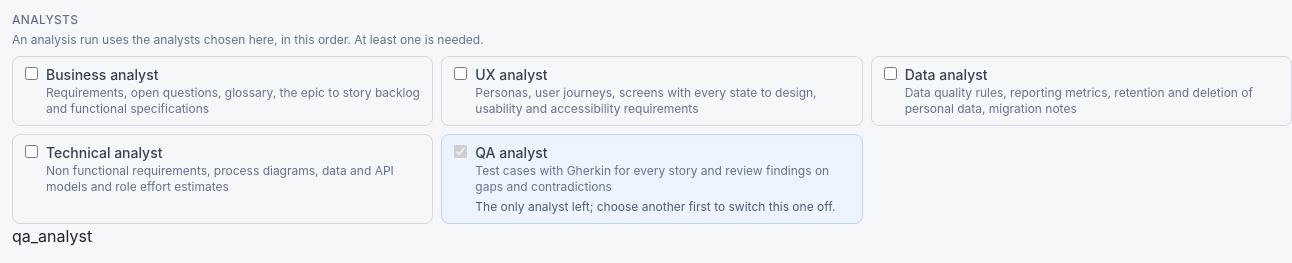
Test case: analyst picker › keeps the choice in run order whatever order it is made in
Click the checkbox labelled "Business analyst" at (32, 74), box [25,67,38,80]
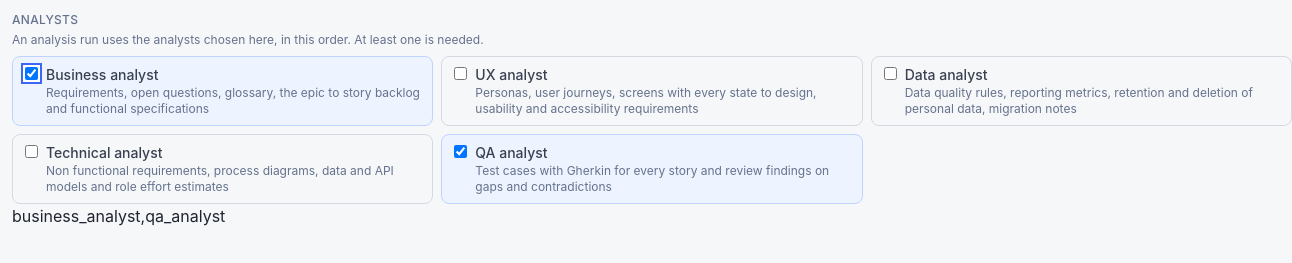
Check: the text "business_analyst,qa_analyst" is shown, box [12,206,225,226]
